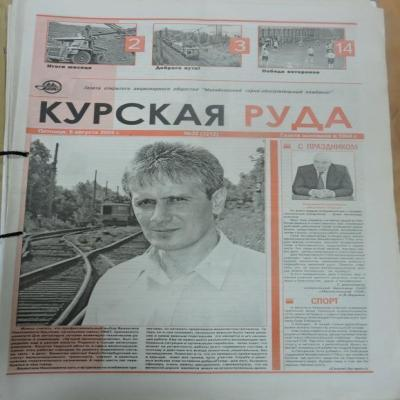printed_products: (18, 0, 400, 400)
